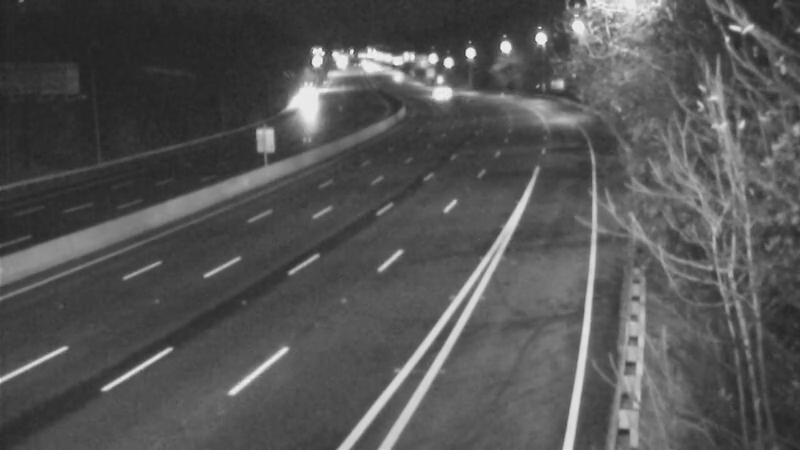vehicle: (414, 68, 464, 118)
